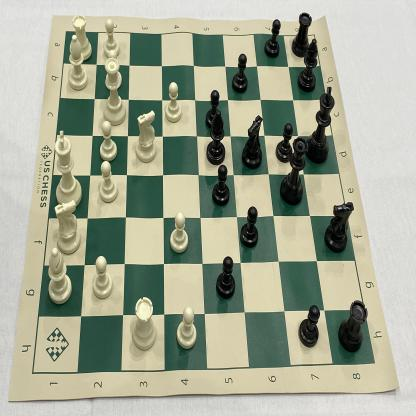black-bishop: (295, 40, 317, 93)
black-king: (306, 81, 335, 166)
black-knight: (322, 199, 355, 250), (238, 109, 262, 167), (201, 116, 227, 169)
black-pawn: (299, 300, 322, 347), (238, 202, 260, 250), (209, 165, 231, 212), (217, 251, 240, 295), (229, 53, 249, 93), (275, 122, 293, 164), (204, 89, 222, 127), (264, 21, 282, 59)
black-queen: (280, 145, 310, 209)
black-rook: (338, 294, 368, 354), (289, 15, 310, 56)
white-bishop: (64, 38, 92, 100), (42, 245, 71, 303)
white-king: (52, 133, 81, 208)
white-knight: (51, 196, 80, 257), (132, 106, 158, 165)
white-pawn: (96, 151, 122, 204), (170, 300, 196, 349), (101, 112, 125, 163), (169, 209, 193, 255), (101, 20, 123, 63), (93, 255, 114, 298), (163, 81, 182, 125), (105, 51, 122, 89)
white-queen: (100, 61, 129, 114)
white-rook: (131, 294, 160, 354), (66, 13, 94, 73)
